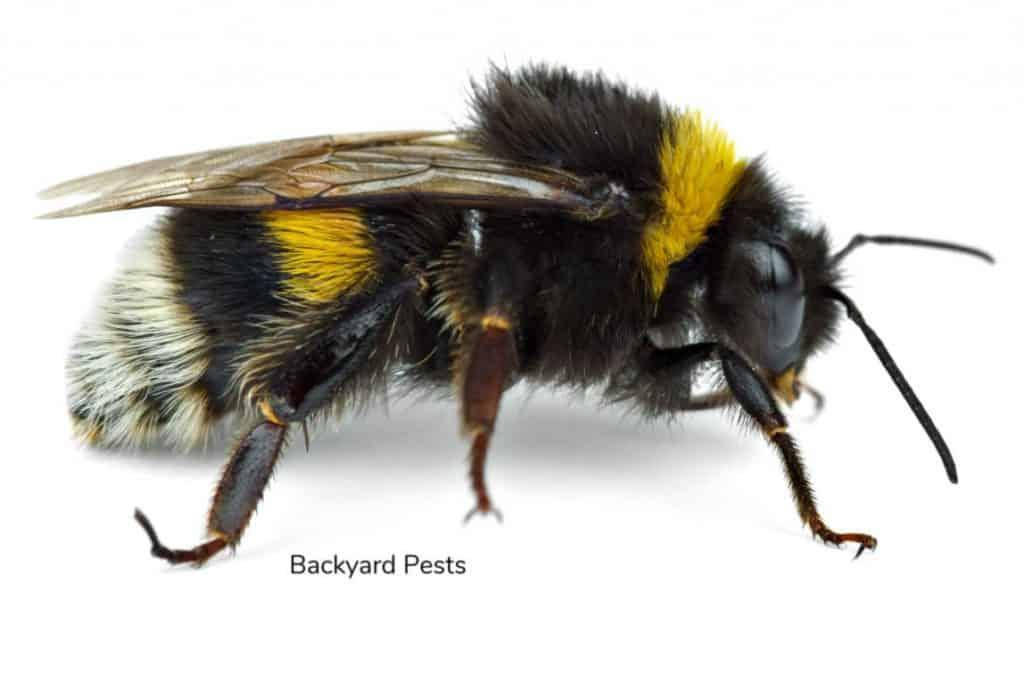Allodapula: (43, 47, 970, 628)
